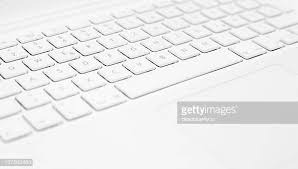keyboard: (0, 0, 298, 147)
